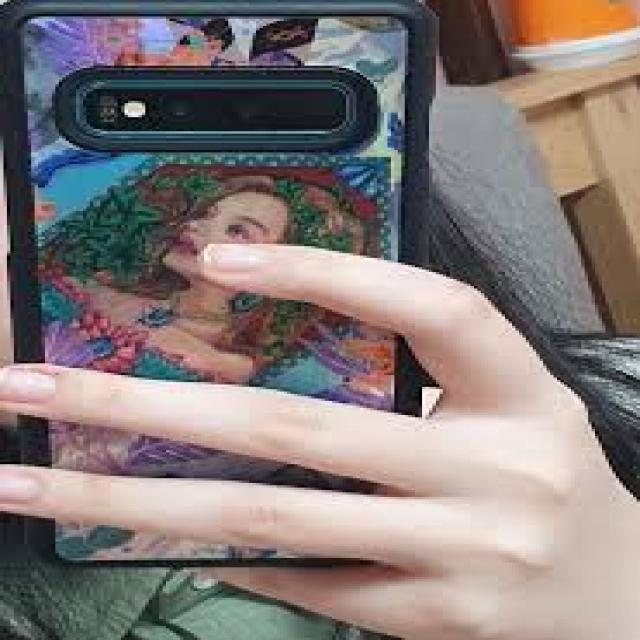Phone: (0, 0, 436, 574)
